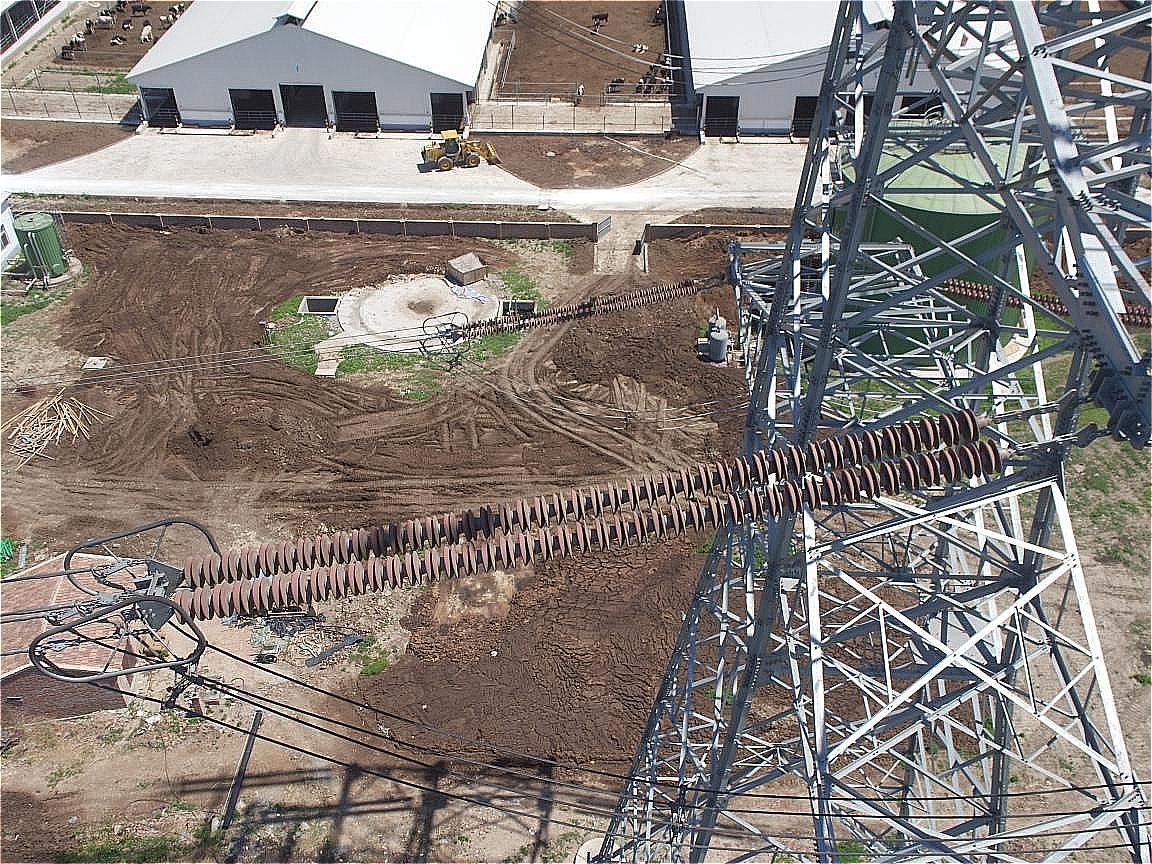insultor2: (173, 406, 1002, 625), (460, 278, 697, 345)
